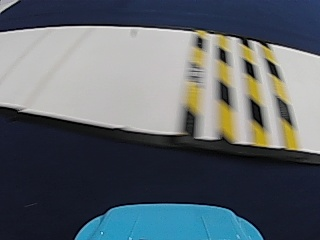bump: (175, 33, 295, 138)
